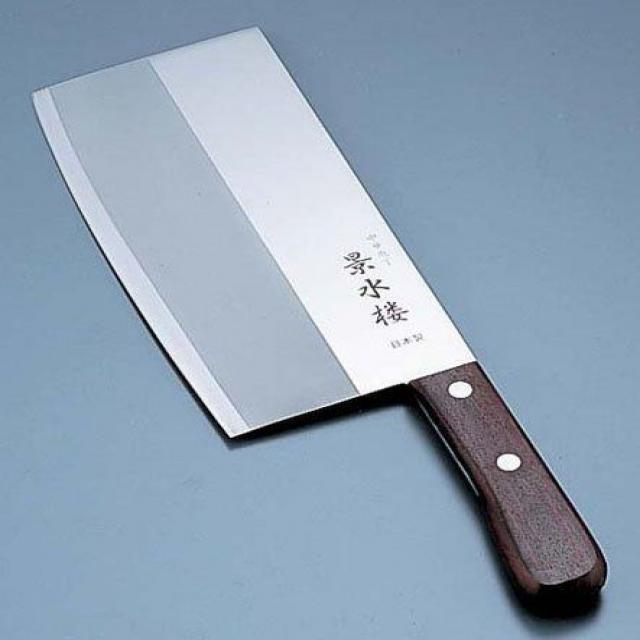cleaver: (27, 25, 607, 610)
